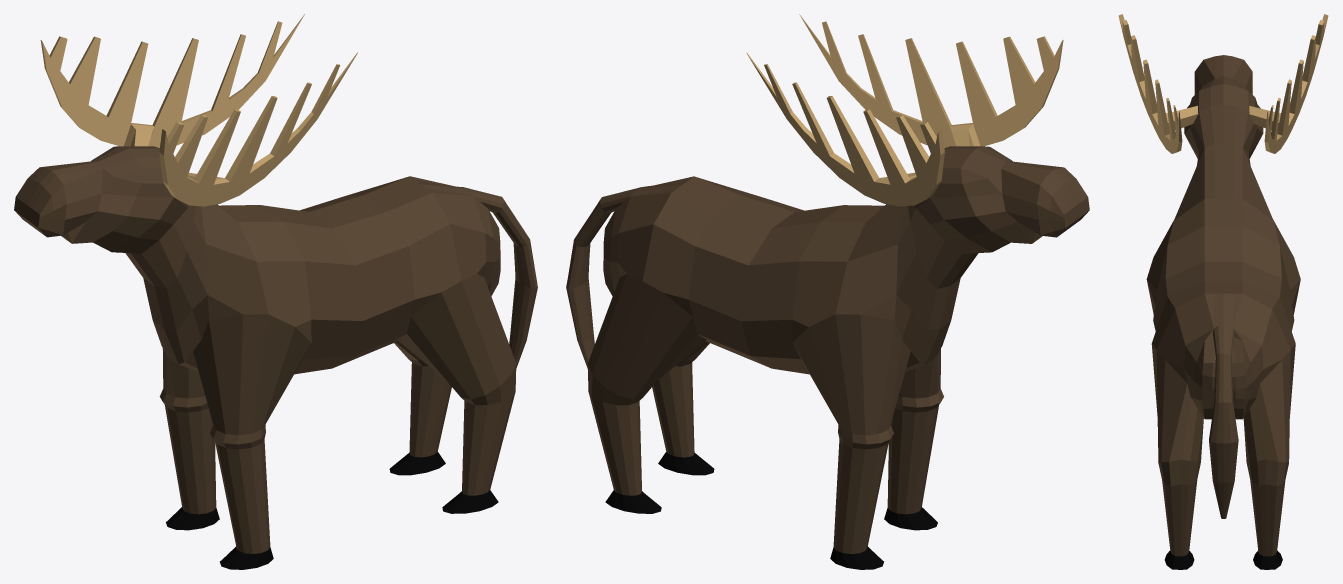
Rendered from Moose.fbx.
3 views of the same model, side by side, from view 1: azimuth 30°, elevation 25°; view 2: azimuth 150°, elevation 25°; view 3: azimuth 270°, elevation 25° (orthographic). The views are drawn at different scales.
Parts seen in each view (by area): view 1: Moose; view 2: Moose; view 3: Moose.
Boxes of the visible parts, <box> form: Moose: <box>14,14,537,569</box>; Moose: <box>566,14,1089,569</box>; Moose: <box>1118,14,1328,569</box>.
Bounding box in the file's own units: 0.8007 × 0.7324 × 0.3423.
